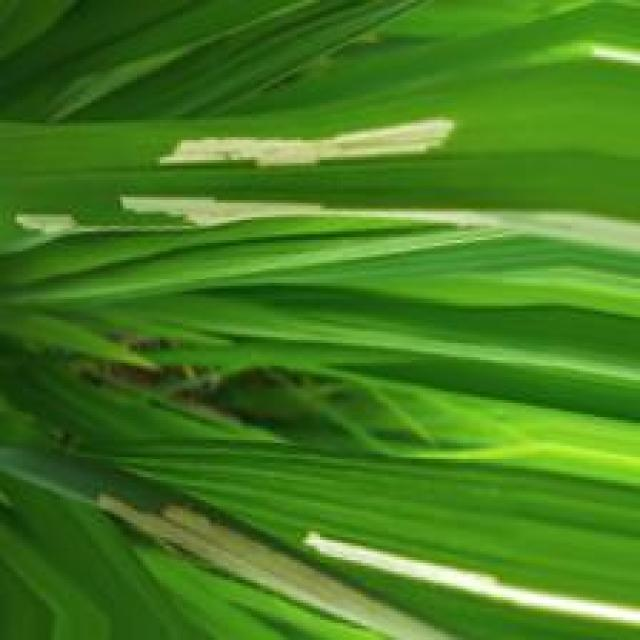Rice_Hispa: (89, 498, 457, 640), (302, 534, 640, 633), (11, 199, 640, 251), (153, 117, 453, 166)
